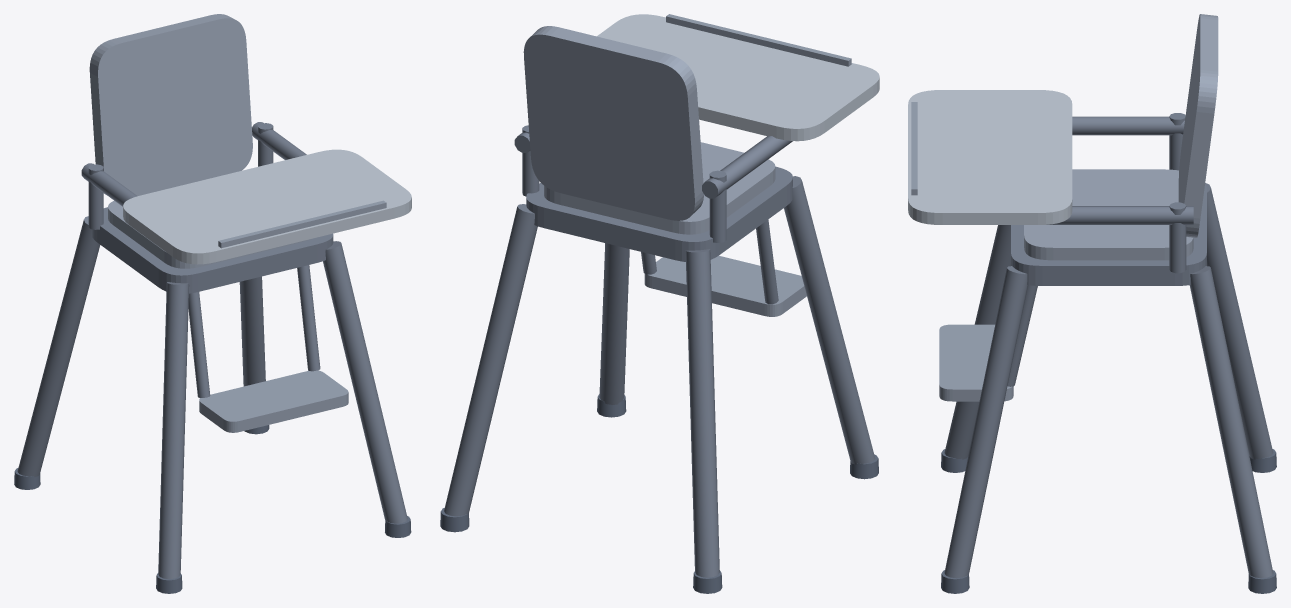
Rendered from child-highchair-lite.glb.
3 views of the same model, side by side, from view 1: azimuth 30°, elevation 25°; view 2: azimuth 150°, elevation 25°; view 3: azimuth 270°, elevation 25° (orthographic). The views are drawn at different scales.
Visible parts, largest first — view 1: child-highchair-frame, child-highchair-soft, child-highchair-light, child-highchair-accent, child-highchair-dark; view 2: child-highchair-frame, child-highchair-soft, child-highchair-light, child-highchair-accent, child-highchair-dark; view 3: child-highchair-frame, child-highchair-light, child-highchair-soft, child-highchair-accent, child-highchair-dark.
Boxes of the visible parts, bbox=[...] form: child-highchair-frame: bbox=[17, 122, 407, 579]; child-highchair-soft: bbox=[89, 14, 310, 268]; child-highchair-light: bbox=[123, 149, 411, 264]; child-highchair-accent: bbox=[199, 200, 386, 432]; child-highchair-dark: bbox=[14, 425, 411, 593]; child-highchair-frame: bbox=[444, 125, 875, 577]; child-highchair-soft: bbox=[523, 26, 775, 234]; child-highchair-light: bbox=[597, 14, 879, 141]; child-highchair-accent: bbox=[644, 14, 851, 316]; child-highchair-dark: bbox=[440, 394, 878, 593]; child-highchair-frame: bbox=[944, 113, 1273, 578]; child-highchair-light: bbox=[908, 90, 1072, 224]; child-highchair-soft: bbox=[1024, 14, 1218, 260]; child-highchair-accent: bbox=[911, 102, 1013, 401]; child-highchair-dark: bbox=[941, 449, 1276, 593].
Size of the model in its own units: 0.594 by 1.01 by 0.696.
